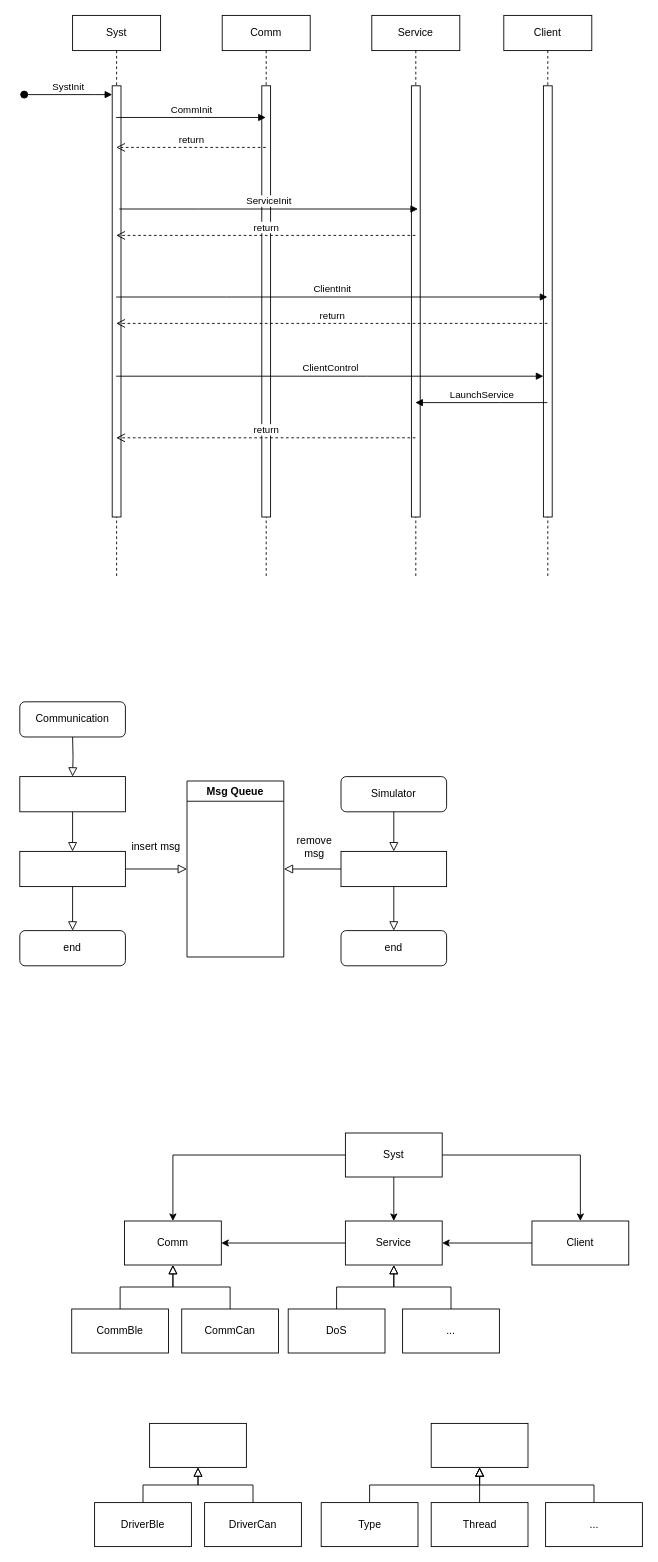
This 658x1562 diagram has some shape labels left out. Here are the shapes that lost their labels. From the top down, the centre of each, then its label:
pixel 72 794: receive msg from controller
pixel 72 869: store date into msg queue
pixel 393 869: logic
pixel 197 1445: Driver
pixel 479 1445: Public
